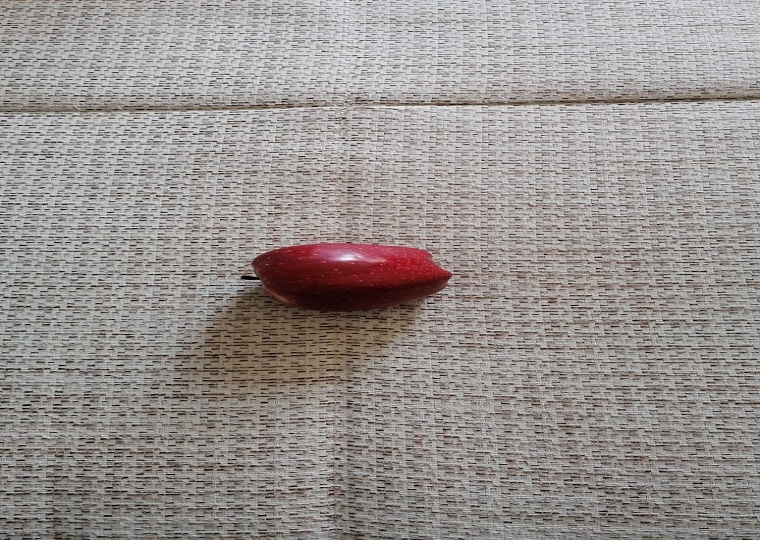elma: (241, 242, 455, 313)
